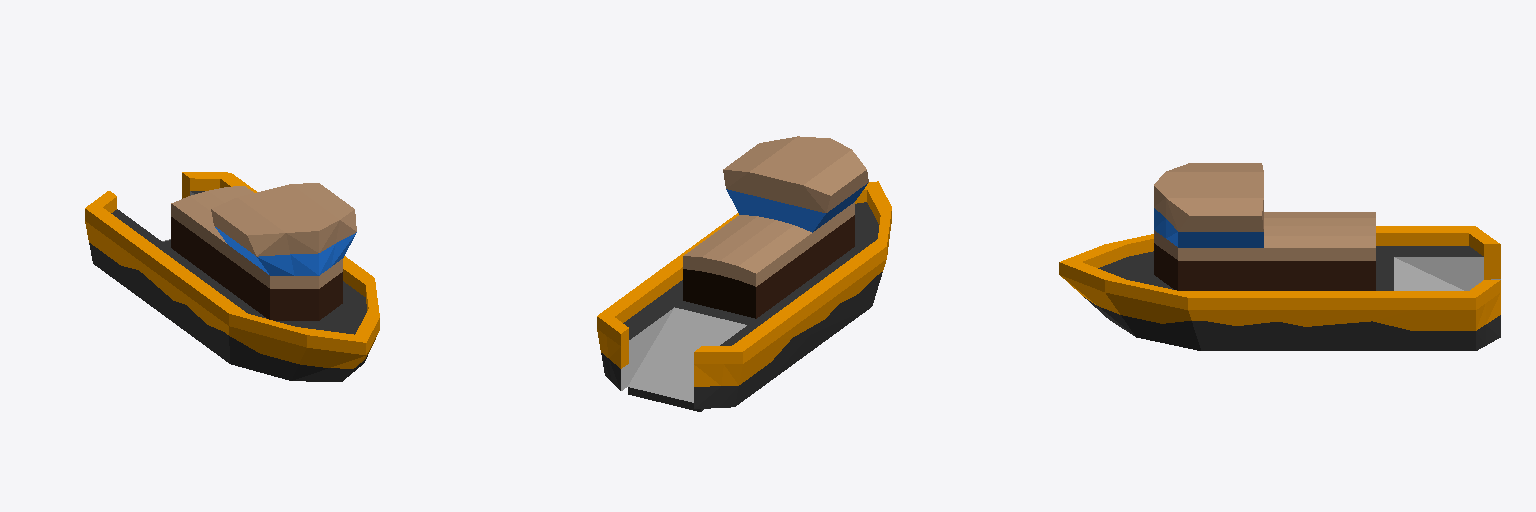
The picture shows the model from 3 angles: view 1: azimuth 30°, elevation 25°; view 2: azimuth 150°, elevation 25°; view 3: azimuth 270°, elevation 25°; orthographic projection.
Parts seen in each view (by area): view 1: Cube; view 2: Cube; view 3: Cube.
Part boxes in pixels (bbox=[...]): Cube: bbox=[85, 172, 379, 381]; Cube: bbox=[597, 136, 891, 411]; Cube: bbox=[1059, 163, 1500, 350].
Bounding box in the file's own units: 3.4 × 3.17 × 8.9.
1 materials, 1 textured.